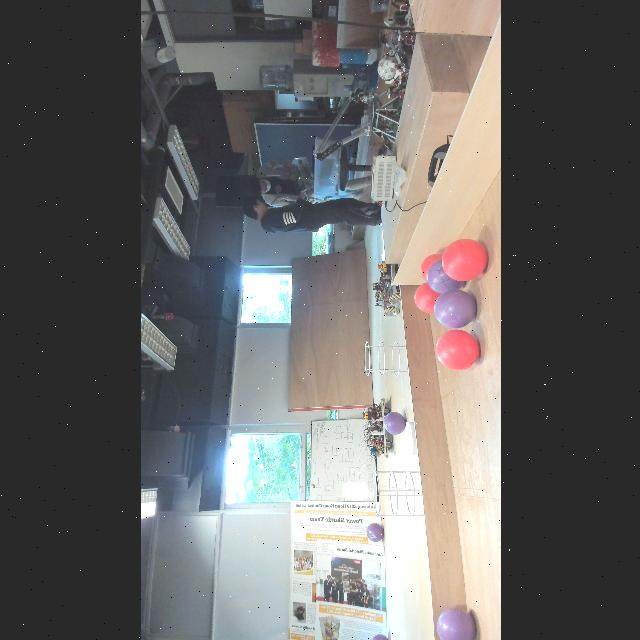P: (432, 290, 476, 328), (426, 259, 464, 295), (435, 608, 475, 640), (383, 412, 405, 436), (365, 522, 383, 542), (371, 634, 389, 640)
R: (441, 238, 487, 282), (434, 330, 480, 370), (420, 253, 454, 284), (412, 282, 443, 314)
S: (371, 469, 427, 519), (362, 340, 410, 378)
